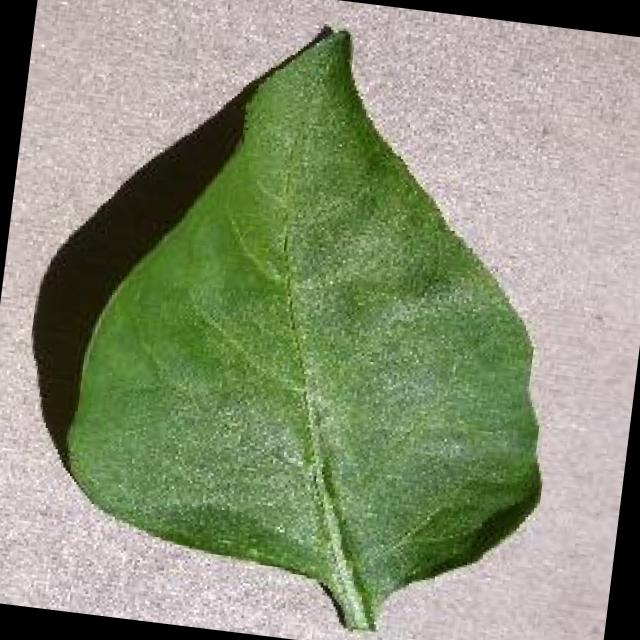Chilli_Healthy: (37, 0, 594, 640)
